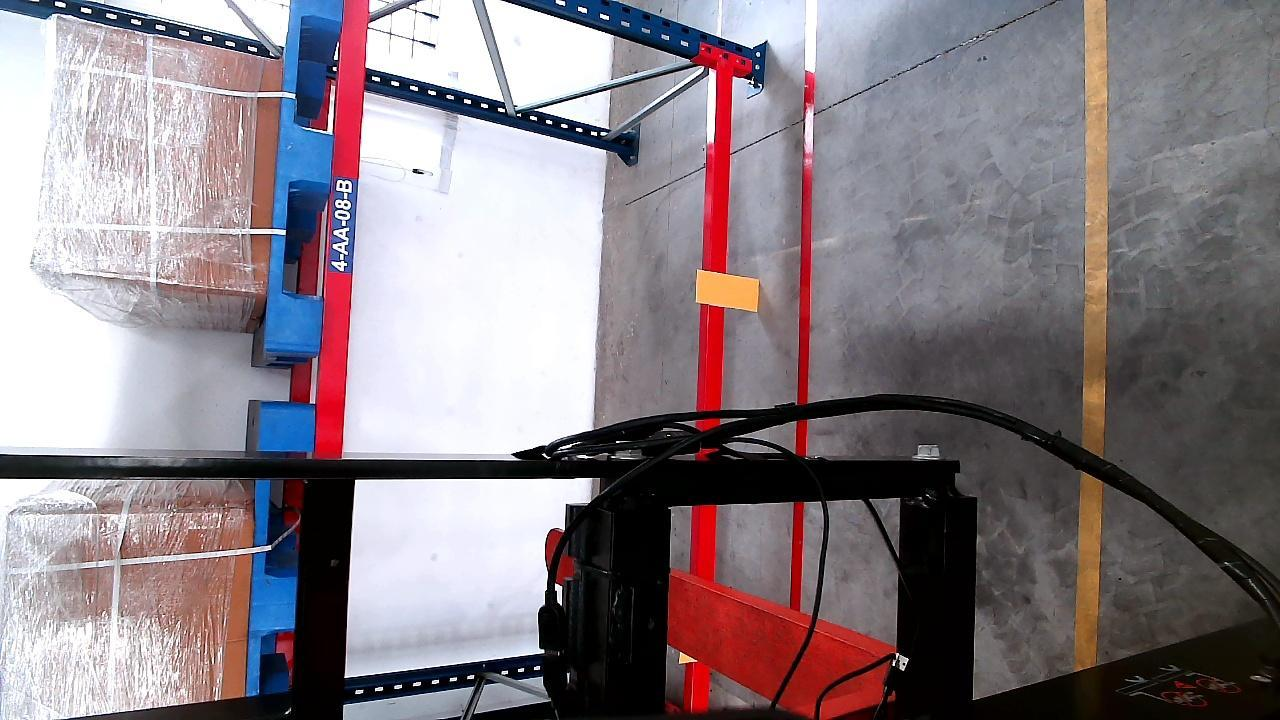red_line: (787, 0, 816, 611)
yellow_line: (1076, 0, 1102, 670)
